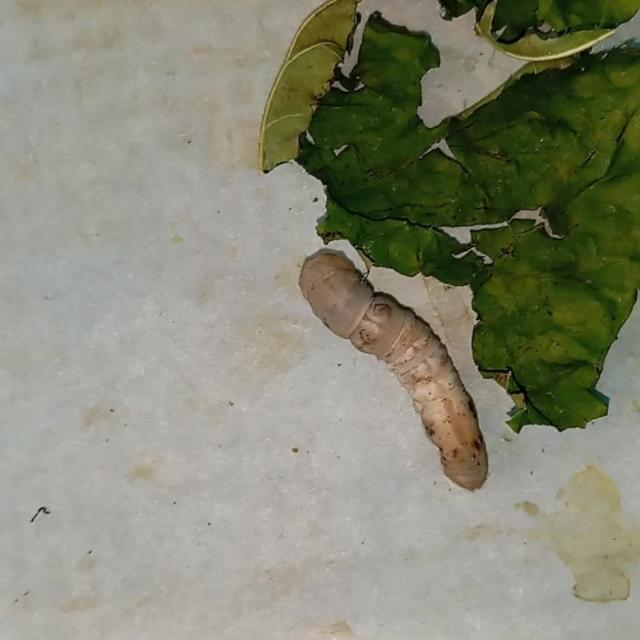Grasserie: (261, 205, 529, 514)
